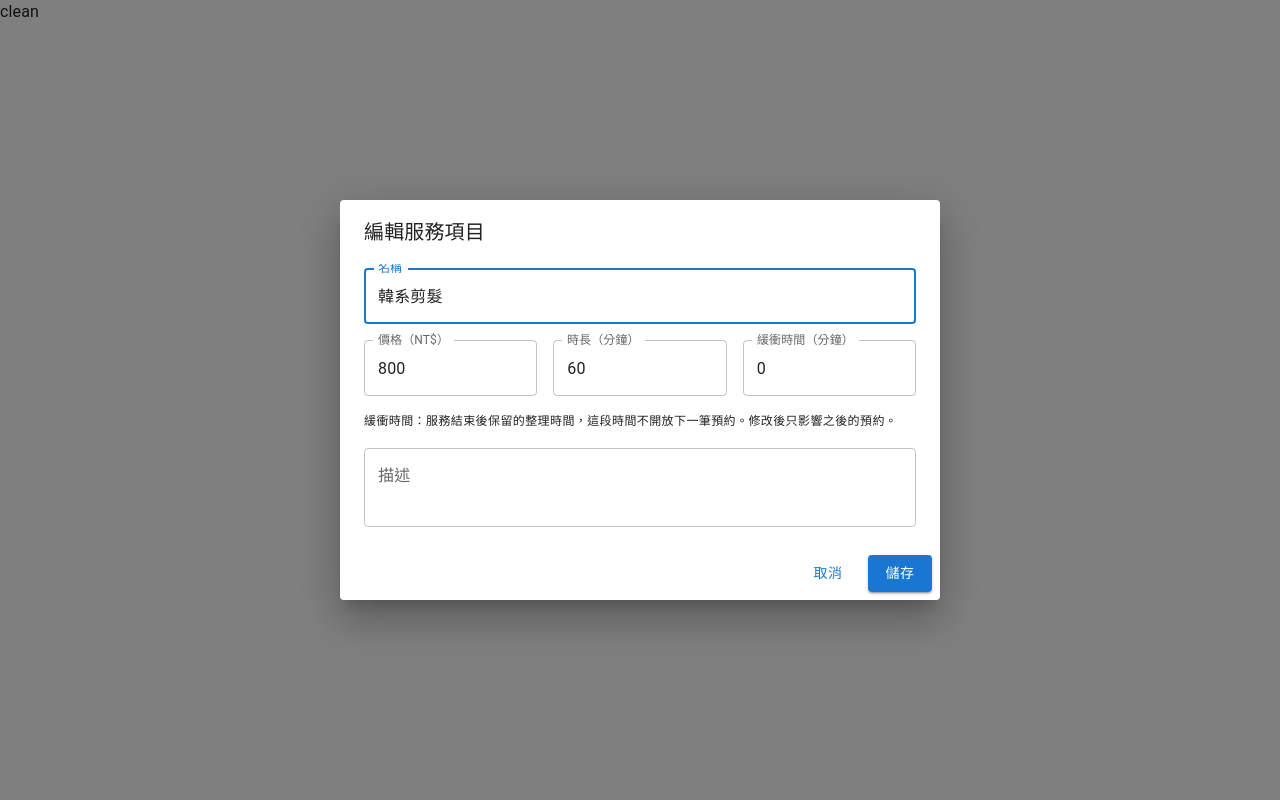
Test case: ServiceFormDialog 未儲存變更（TASK-083，key: service-form） › 關閉攔截 › 有變更按「取消」：先提示，不關閉；「繼續編輯」回到對話框且輸入不變
Replace the text in the field labelled "名稱" with "別的名字" at (640, 296), box x1=364 y1=268 x2=916 y2=324
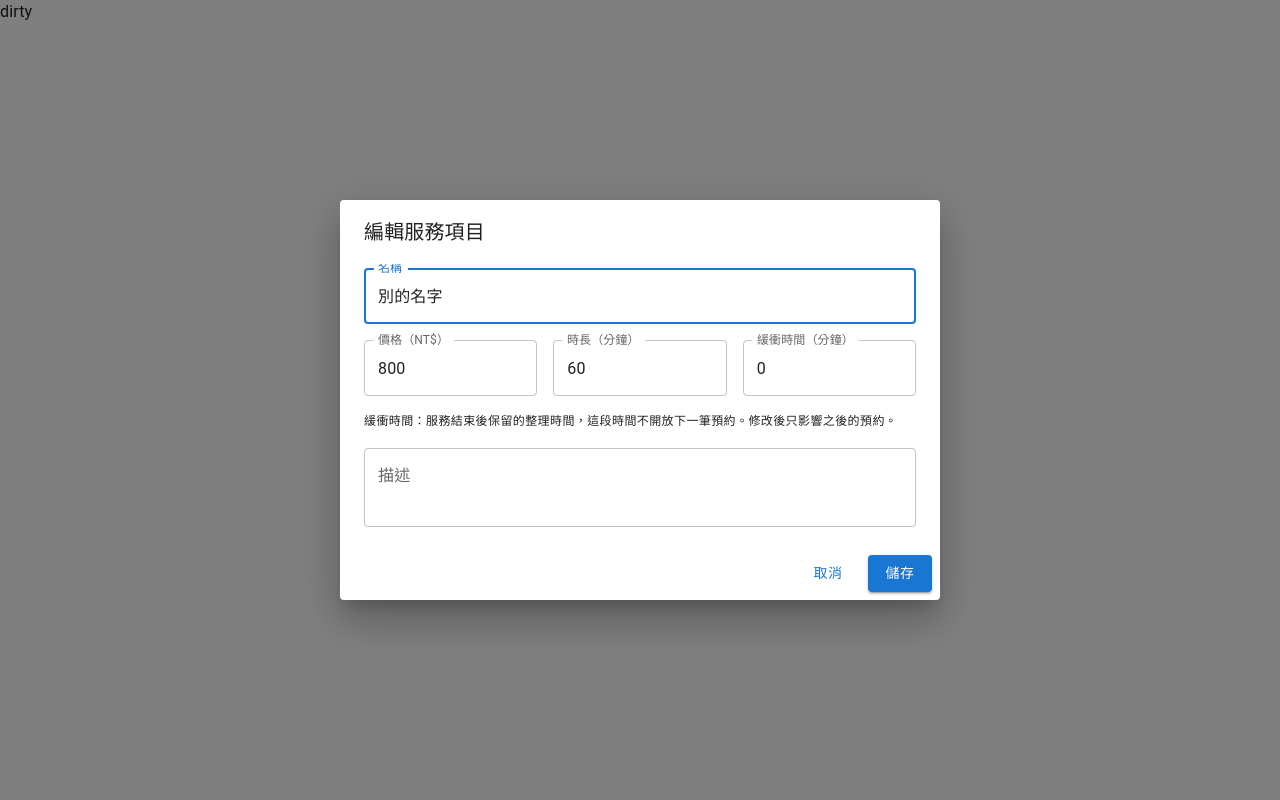
Click the button "取消" at (828, 573), box x1=796 y1=555 x2=860 y2=592
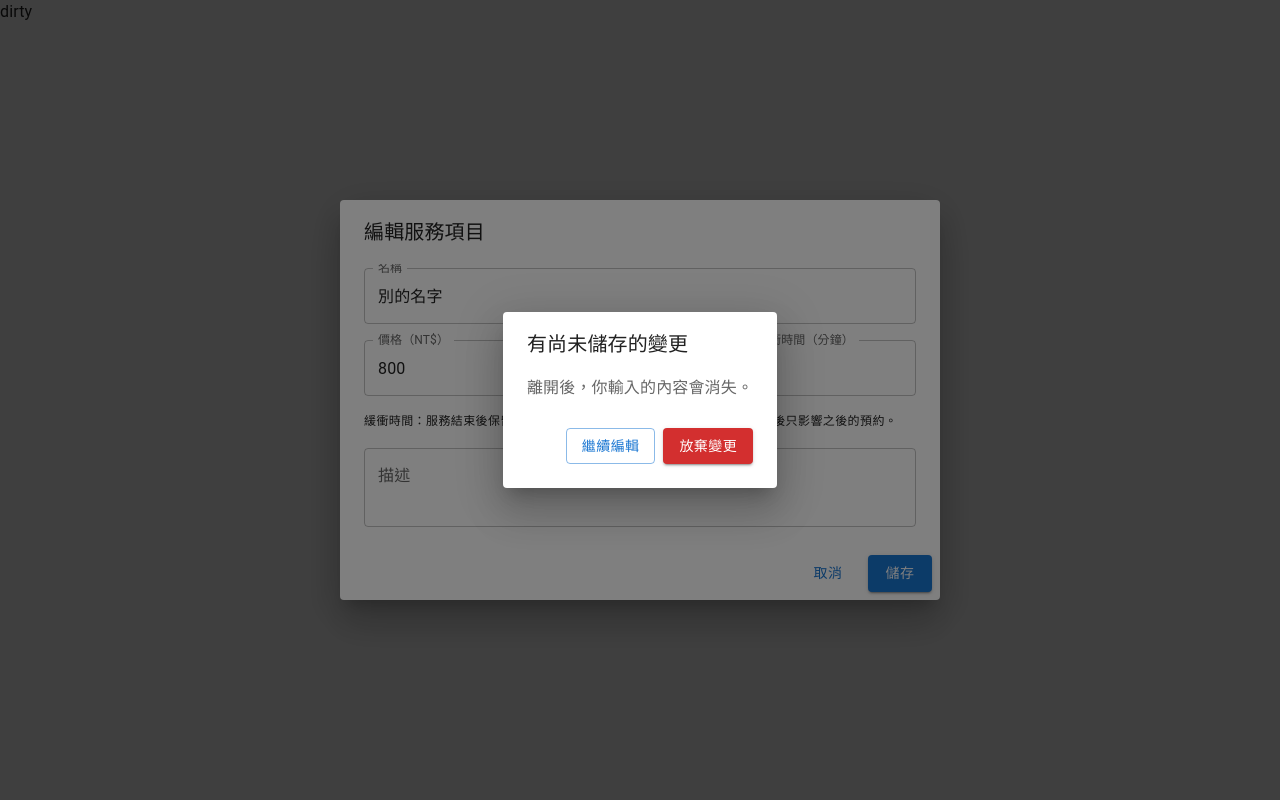
Check: the heading "有尚未儲存的變更" is shown, box x1=527 y1=332 x2=688 y2=356
Click the button "繼續編輯" at (611, 446), box x1=566 y1=428 x2=655 y2=464
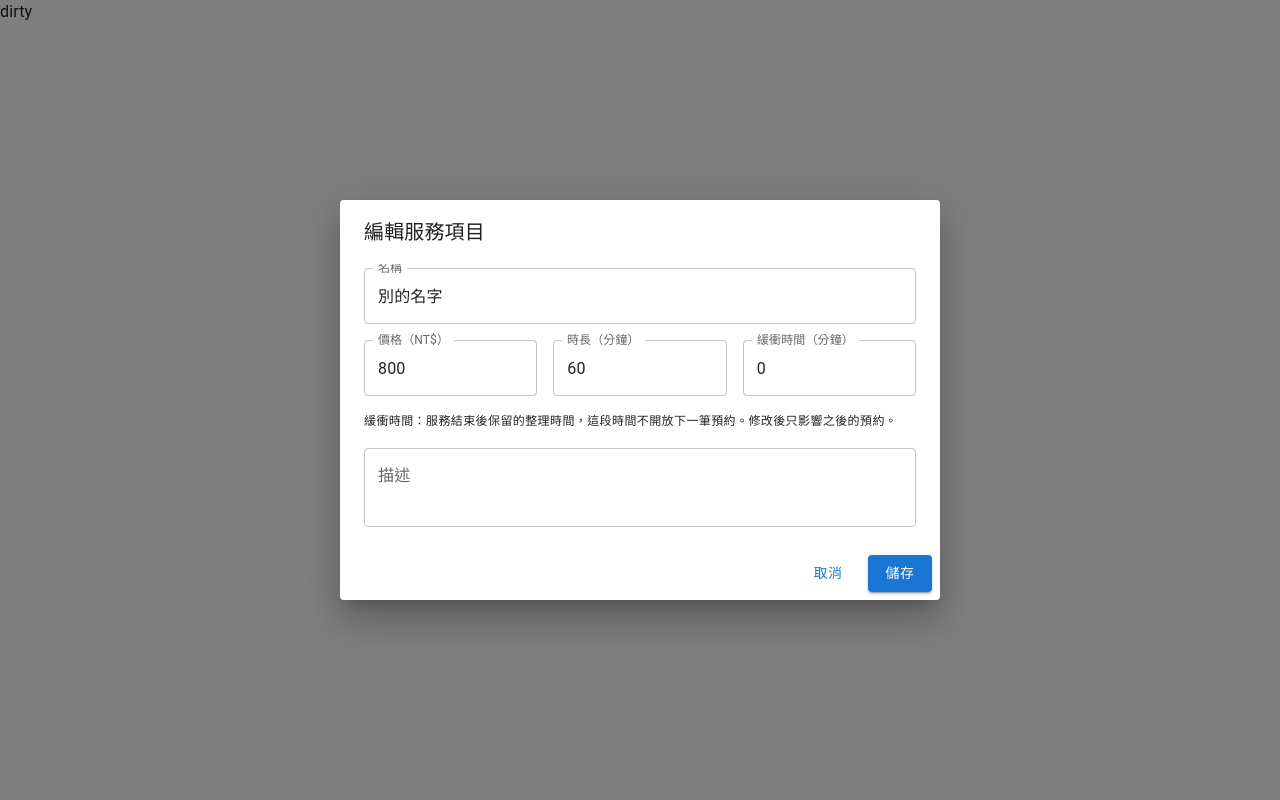
Check: the heading "編輯服務項目" is shown, box x1=364 y1=220 x2=485 y2=244
Check: the heading "有尚未儲存的變更" is gone
